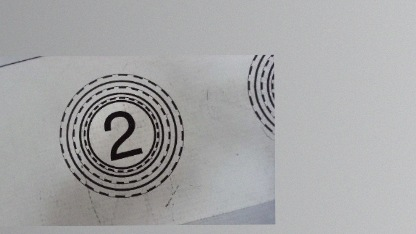2r: (56, 72, 186, 199)
